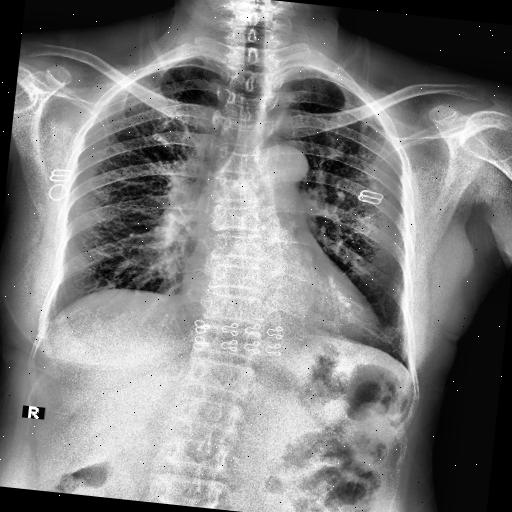0- Aortic enlargement: (248, 140, 312, 206), (250, 140, 311, 184), (259, 142, 310, 186)
13- Pulmonary fibrosis: (143, 130, 172, 148)
3- Cardiomegaly: (172, 254, 388, 348), (177, 261, 391, 349)
